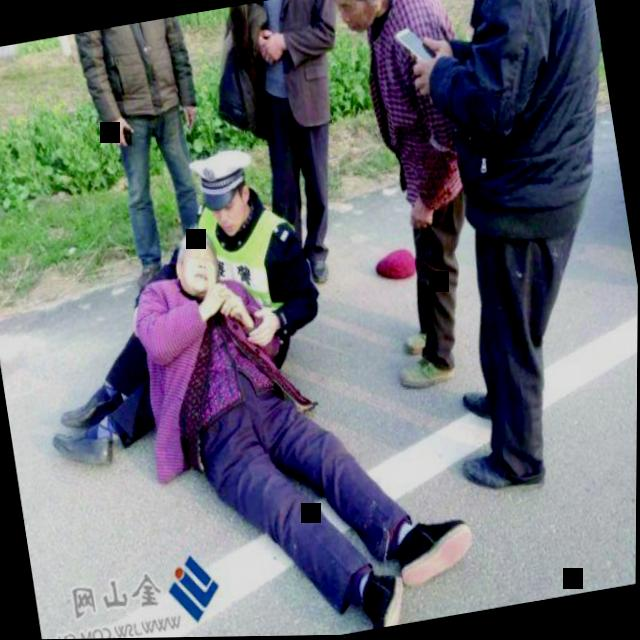Fall-Detected: (126, 181, 492, 638)
